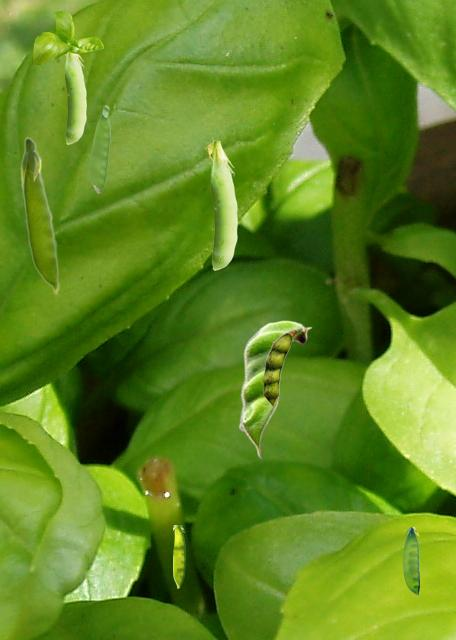pea: (238, 320, 311, 458), (20, 136, 59, 294), (205, 137, 236, 269), (263, 329, 296, 410), (64, 52, 85, 143), (89, 105, 109, 192), (403, 527, 418, 595), (173, 525, 184, 587)
